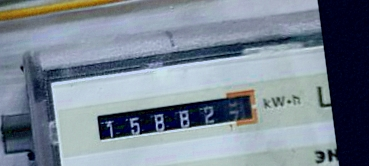1: (104, 118, 116, 137)
2: (202, 103, 217, 125)
5: (126, 115, 143, 136)
7: (227, 107, 240, 121)
8: (177, 107, 192, 129), (153, 111, 167, 132)
screen: (91, 86, 264, 148)
